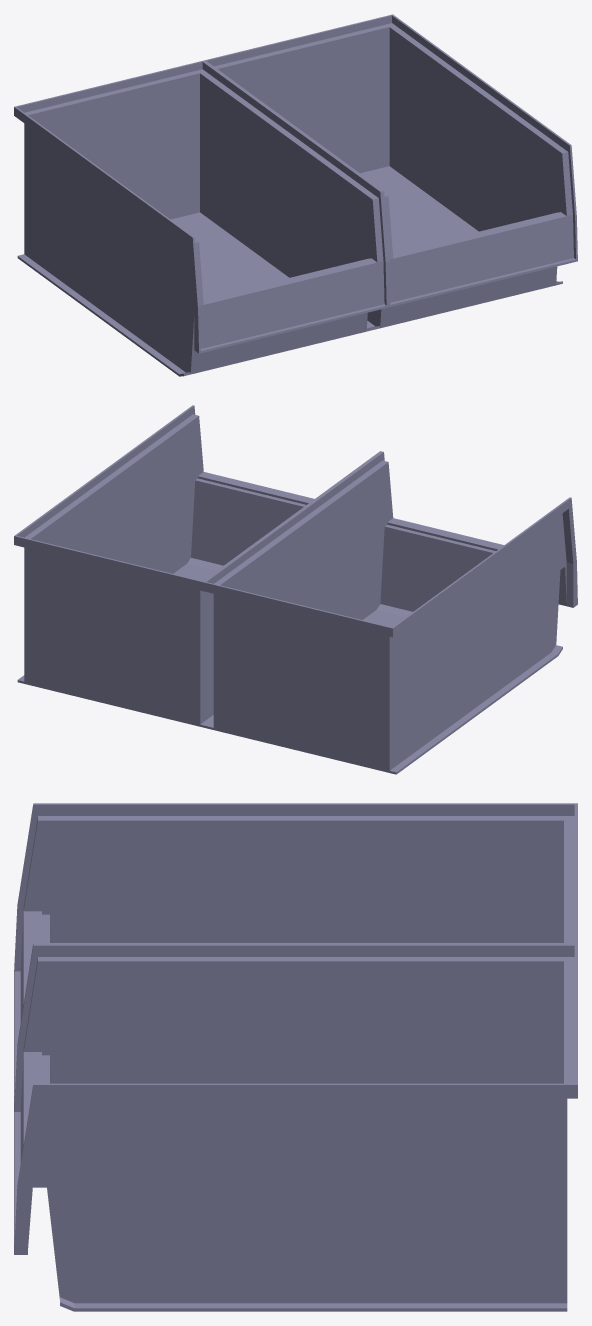
File: BD_PlasticBin.dae
3 renders of one model, top to bottom at view 1: azimuth 30°, elevation 25°; view 2: azimuth 150°, elevation 25°; view 3: azimuth 270°, elevation 25°, orthographic. The views are drawn at different scales.
Visible parts, largest first — view 1: node0.001, node0; view 2: node0.001, node0; view 3: node0, node0.001.
Boxes of the visible parts, left/top/right/bottom form: node0.001: left=14, top=60, right=388, bottom=376; node0: left=204, top=14, right=577, bottom=329; node0.001: left=203, top=451, right=577, bottom=774; node0: left=14, top=405, right=381, bottom=728; node0: left=14, top=944, right=577, bottom=1311; node0.001: left=14, top=803, right=577, bottom=1110.
Bounding box in the file's own units: 0.2 × 0.1692 × 0.075.
